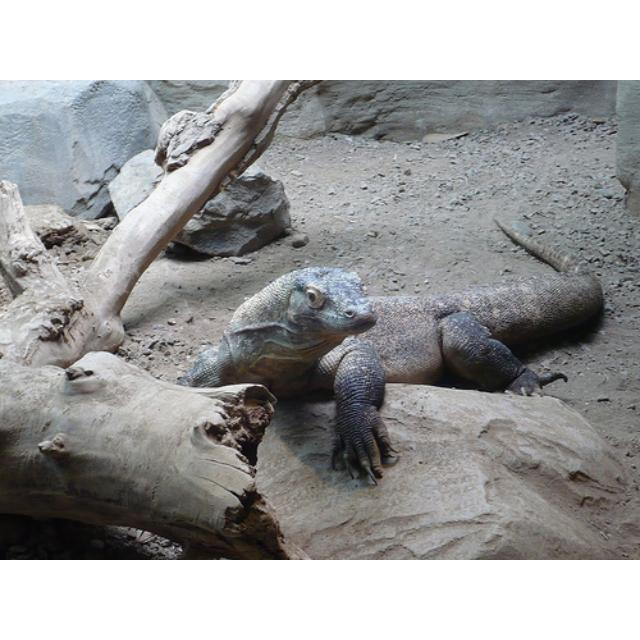KomodoDragon: (176, 214, 608, 484)
